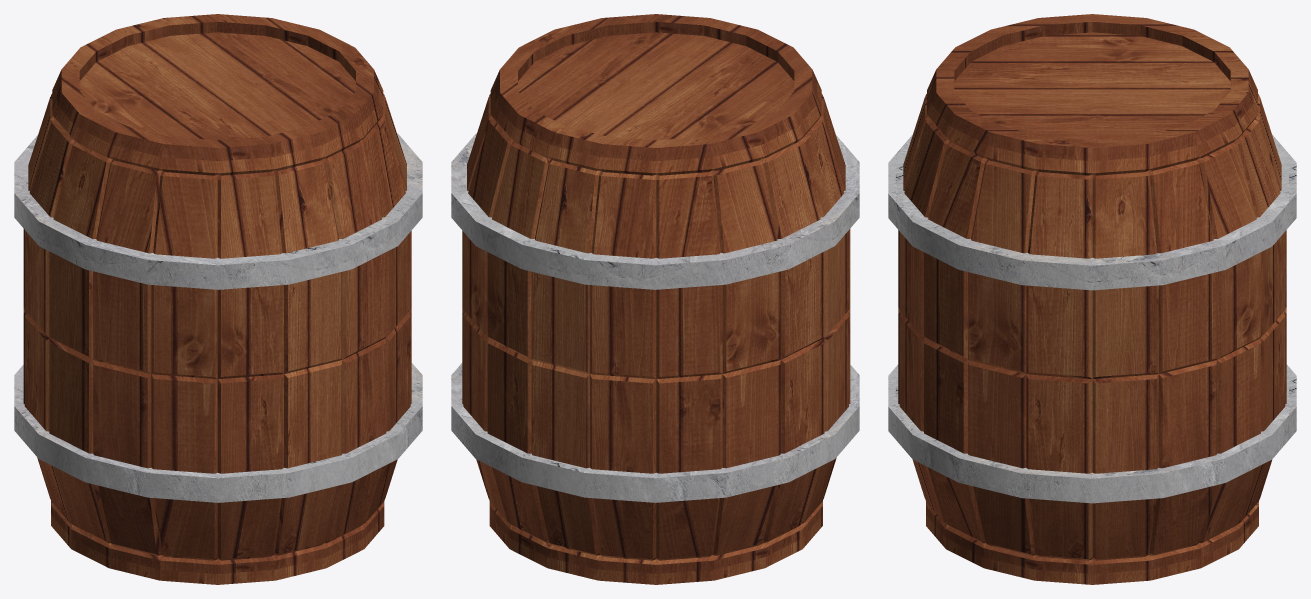
File: BarrilProyecto.fbx
3 renders of one model, left to right at view 1: azimuth 30°, elevation 25°; view 2: azimuth 150°, elevation 25°; view 3: azimuth 270°, elevation 25°, orthographic.
Visible parts, largest first — view 1: Cylinder001, Cylinder003, Cylinder002; view 2: Cylinder001, Cylinder003, Cylinder002; view 3: Cylinder001, Cylinder003, Cylinder002.
Boxes of the visible parts, box(x1,y1,x2,y2) form: Cylinder001: box(23, 14, 411, 584); Cylinder003: box(14, 133, 422, 289); Cylinder002: box(14, 363, 422, 502); Cylinder001: box(462, 14, 850, 584); Cylinder003: box(451, 133, 859, 289); Cylinder002: box(451, 363, 859, 502); Cylinder001: box(898, 14, 1286, 584); Cylinder003: box(888, 134, 1296, 290); Cylinder002: box(888, 364, 1296, 503).
Bounding box in the file's own units: 39.24 × 45.12 × 38.64.
